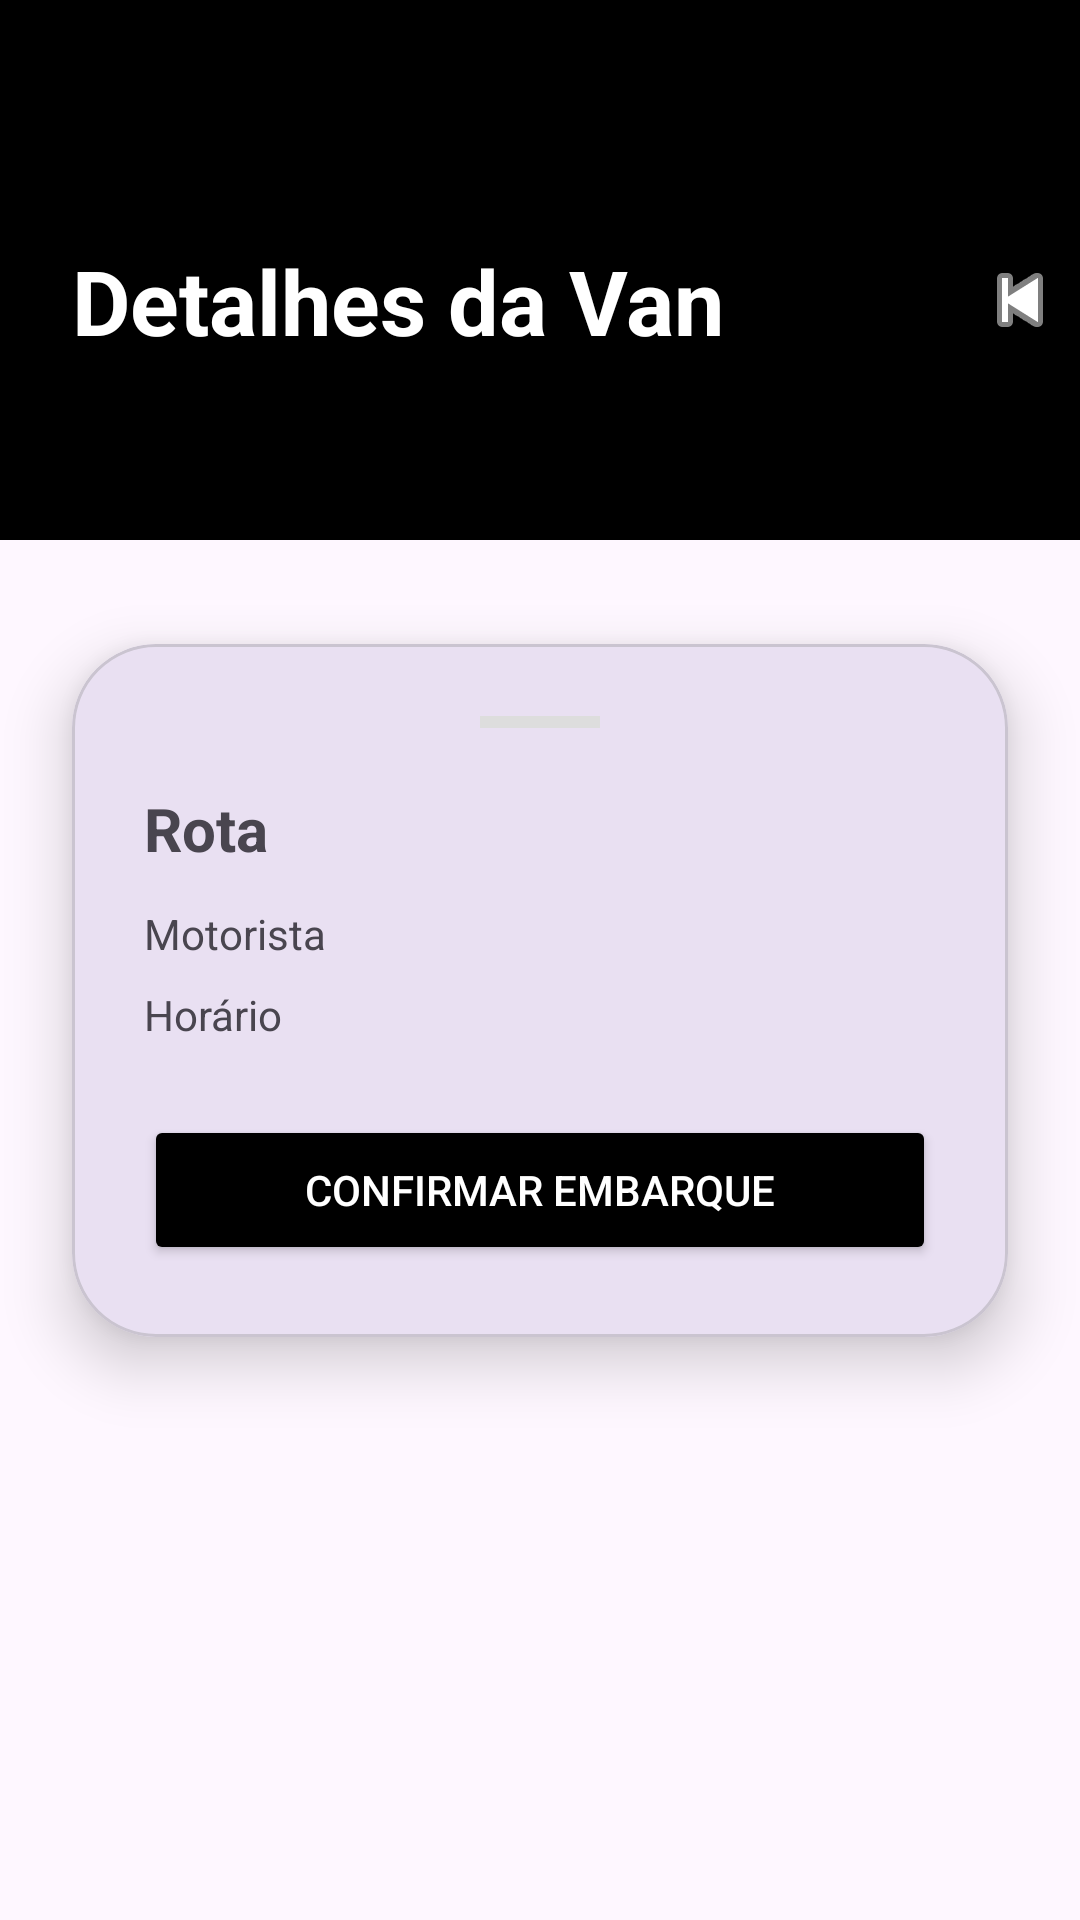

Screen size 1080x1920. Icon name, then its box in pixels as {"left": x1, "top": y1, "right": x2, "bottom": y2}:
previous: {"left": 997, "top": 273, "right": 1043, "bottom": 327}
